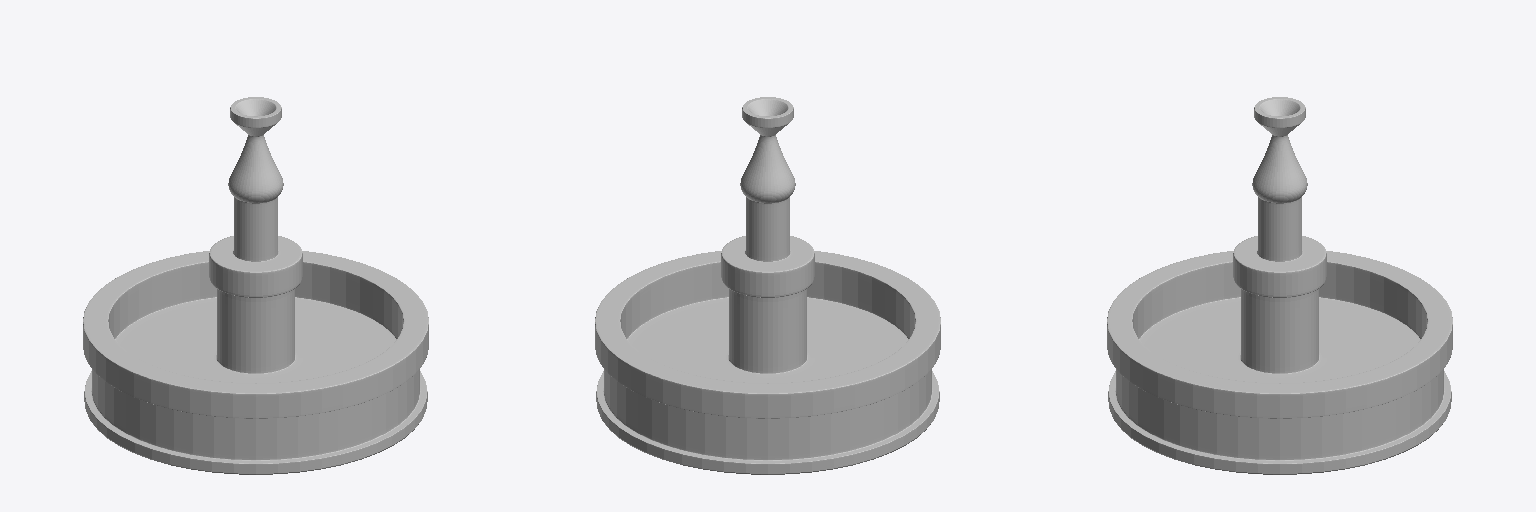
File: fountain.obj
The picture shows the model from 3 angles: view 1: azimuth 30°, elevation 25°; view 2: azimuth 150°, elevation 25°; view 3: azimuth 270°, elevation 25°; orthographic projection.
Parts seen in each view (by area): view 1: Cylinder; view 2: Cylinder; view 3: Cylinder.
Boxes of the visible parts, box(x1,y1,x2,y2) form: Cylinder: box(83, 97, 428, 474); Cylinder: box(595, 97, 940, 474); Cylinder: box(1107, 97, 1452, 474).
Bounding box in the file's own units: 7.6 × 7.18 × 7.6.